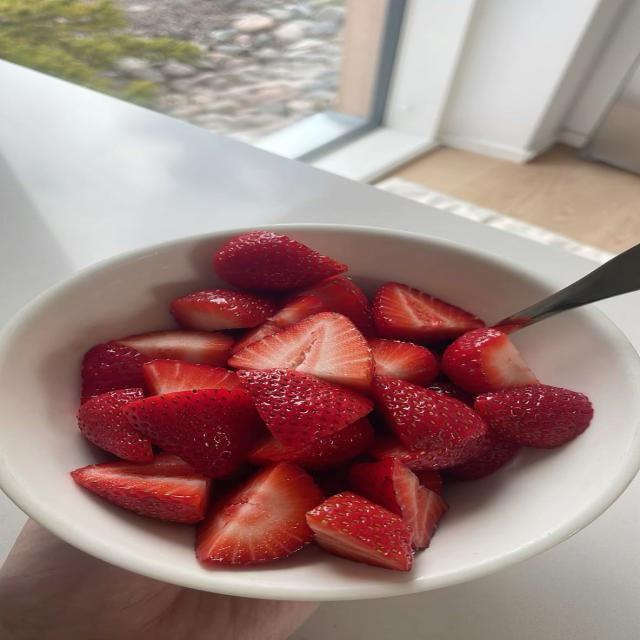strawberry sliced: (196, 462, 323, 564), (125, 389, 259, 477), (229, 313, 373, 390), (238, 369, 373, 447), (374, 377, 486, 468), (72, 455, 210, 523), (350, 459, 447, 549), (307, 492, 413, 571), (214, 231, 346, 291), (475, 385, 593, 448), (374, 283, 484, 343), (248, 419, 373, 470), (442, 328, 537, 394), (232, 296, 330, 354), (78, 389, 153, 461), (298, 275, 374, 337), (171, 289, 276, 331), (114, 330, 233, 366), (81, 343, 151, 403), (369, 435, 482, 471), (142, 360, 241, 395), (446, 434, 519, 480), (369, 339, 438, 386), (369, 436, 451, 472), (427, 379, 474, 406), (414, 470, 442, 494), (359, 458, 369, 461)
